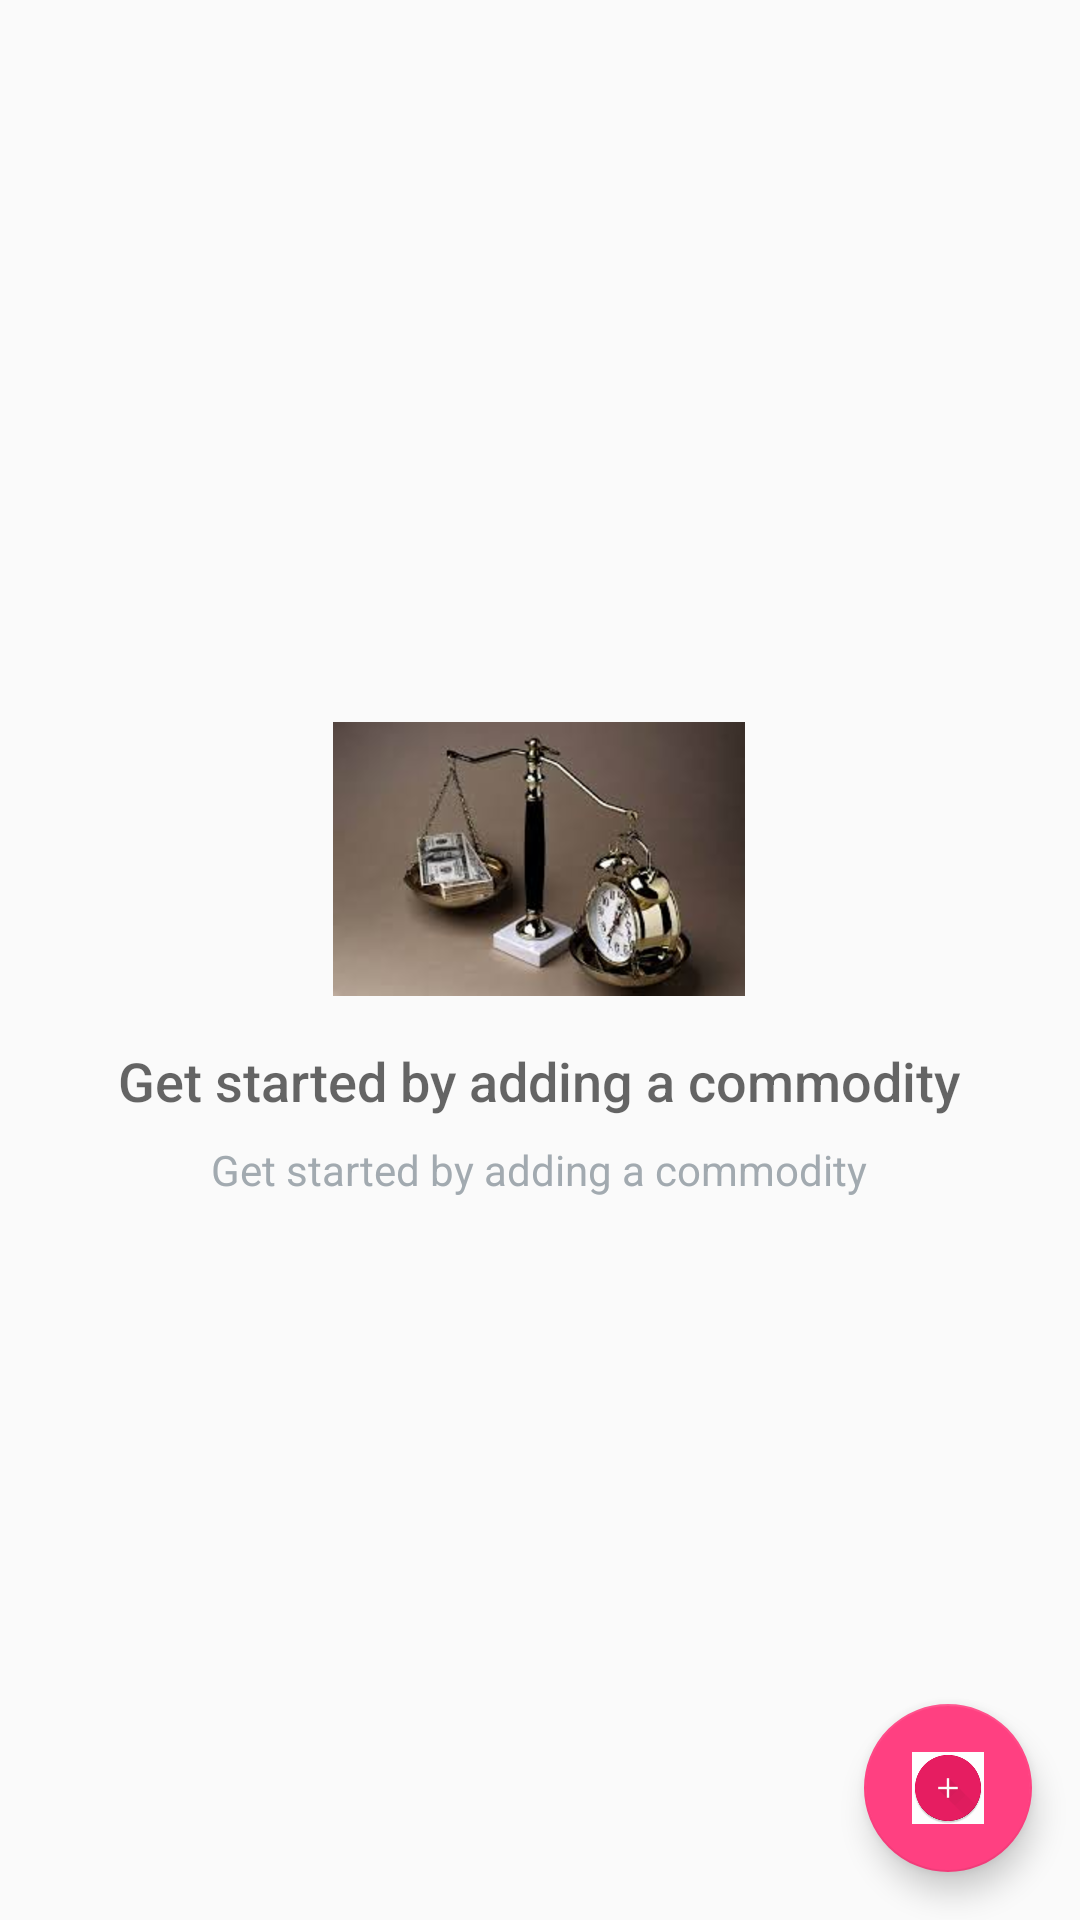

Screen size 1080*1920. Icon name, then its center in pixels as [x,y]:
fabimage: [948,1788]
